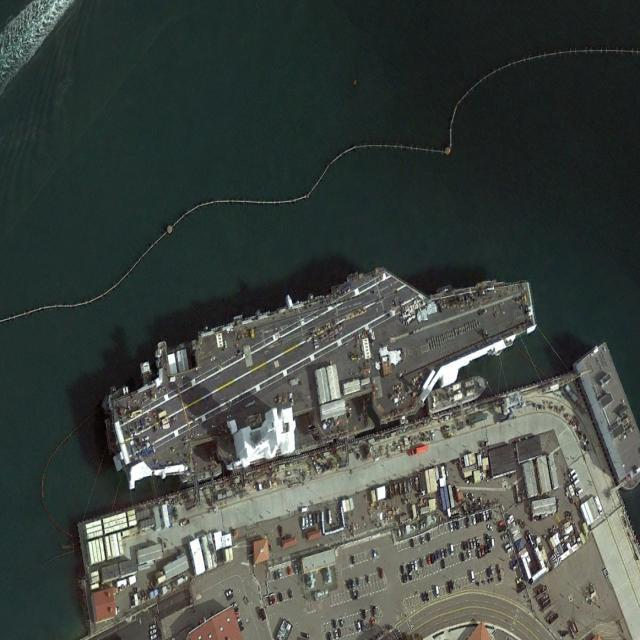Aircraft Carrier: (93, 223, 545, 509)
